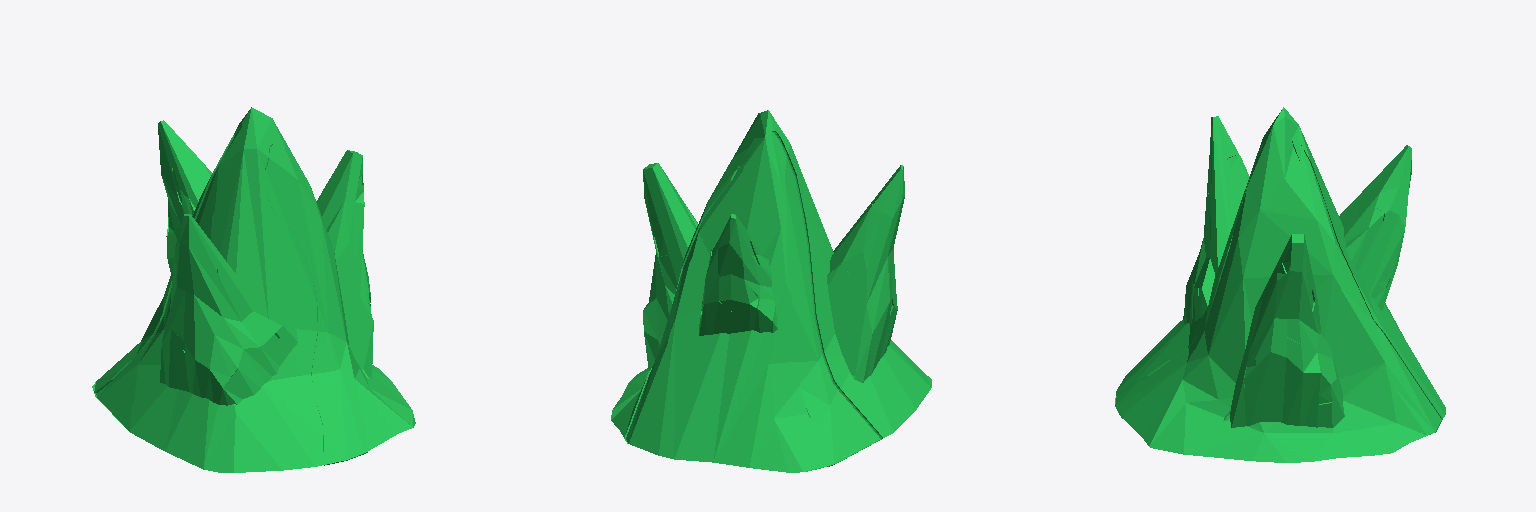
File: Mined.obj
The picture shows the model from 3 angles: view 1: azimuth 30°, elevation 25°; view 2: azimuth 150°, elevation 25°; view 3: azimuth 270°, elevation 25°; orthographic projection.
Visible parts, largest first — view 1: Plane.003; view 2: Plane.003; view 3: Plane.003.
Part boxes in pixels (bbox=[...]): Plane.003: bbox=[92, 107, 415, 472]; Plane.003: bbox=[611, 110, 931, 472]; Plane.003: bbox=[1115, 107, 1445, 462].
Bounding box in the file's own units: 1.79 × 2 × 2.03.